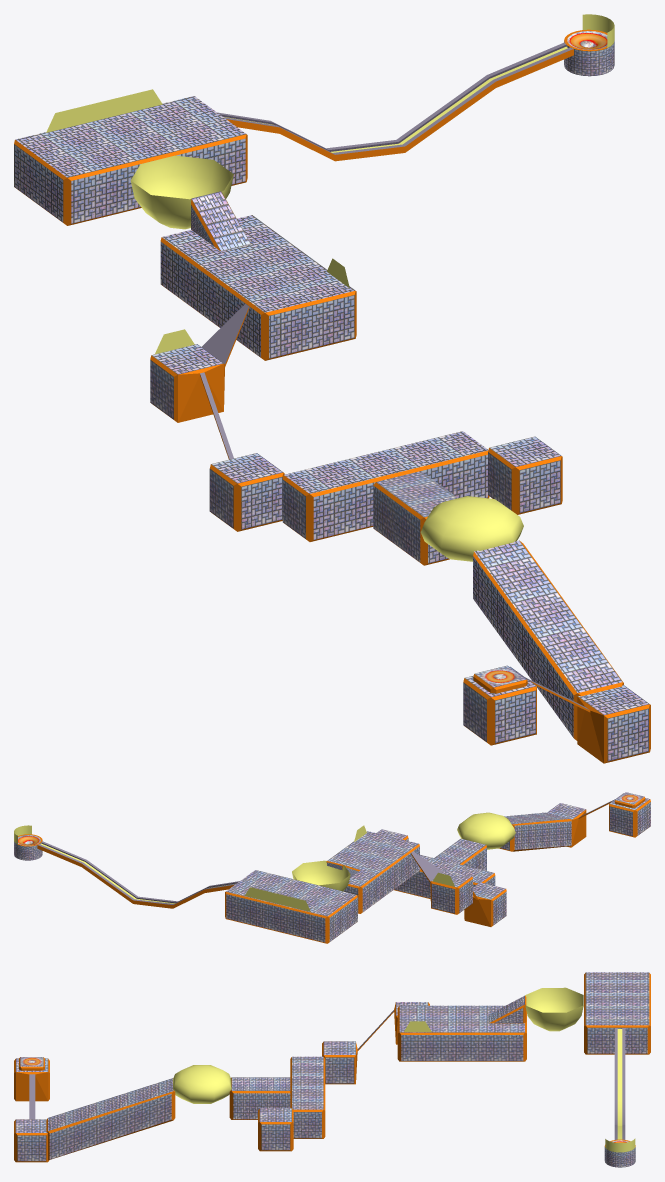
The model's file is Level21.fbx.
3 views of the same model, one above another, from view 1: azimuth 30°, elevation 25°; view 2: azimuth 150°, elevation 25°; view 3: azimuth 270°, elevation 25° (orthographic). The views are drawn at different scales.
Visible parts, largest first — view 1: Level21; view 2: Level21; view 3: Level21.
Boxes of the visible parts, x1,y1,x2,y2 form: Level21: [14, 14, 650, 763]; Level21: [14, 792, 650, 943]; Level21: [14, 972, 650, 1167].
Bounding box in the file's own units: 4038 × 1714 × 5917.
Materials: 10 (5 with a texture image).
